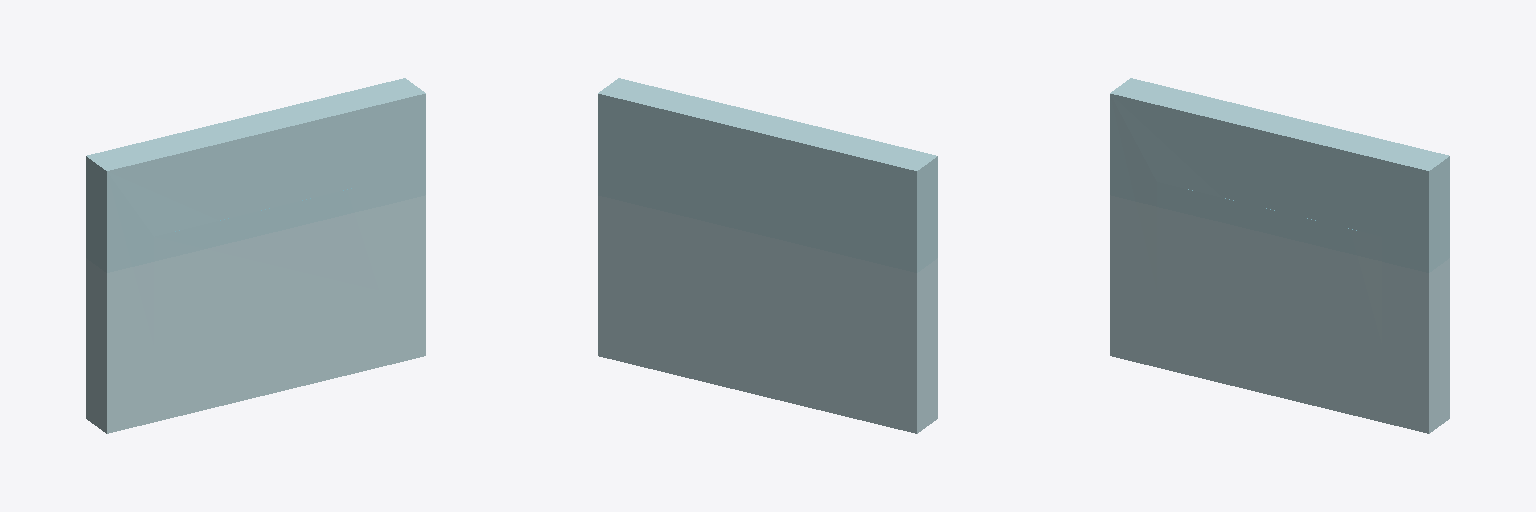
3 views of the same model, side by side, from view 1: azimuth 30°, elevation 25°; view 2: azimuth 150°, elevation 25°; view 3: azimuth 330°, elevation 25° (orthographic).
Parts seen in each view (by area): view 1: Cube.005; view 2: Cube.005; view 3: Cube.005.
Part boxes in pixels (x1,y1,x2,y2): Cube.005: (86,78,425,433); Cube.005: (598,78,937,433); Cube.005: (1110,78,1449,433).
Bounding box in the file's own units: 70 × 55 × 8.03.
1 materials, 1 textured.